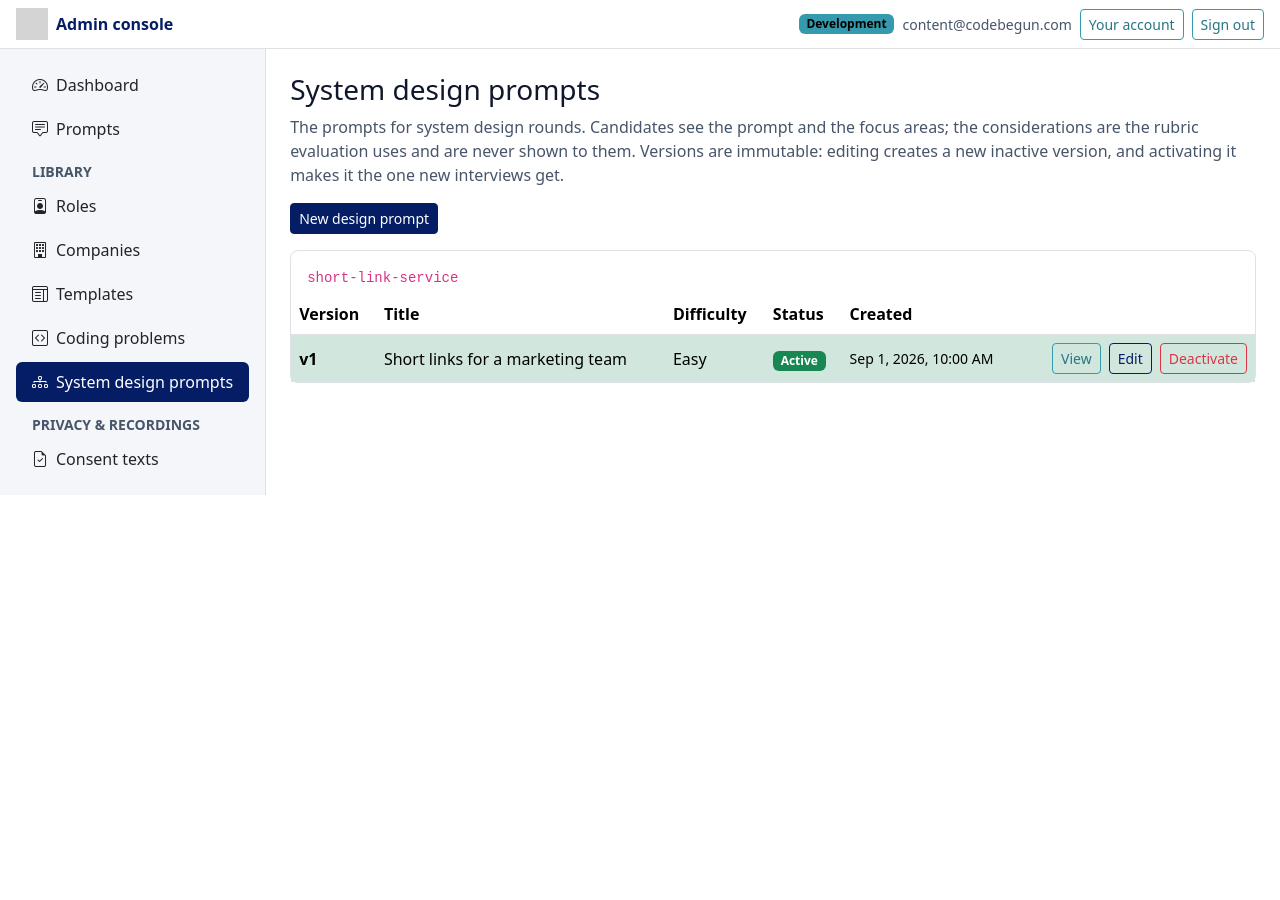
Scenario: system design prompts › lists prompts and shows the rubric as hidden from candidates
Click the button with aria-label "View short-link-service v1" at (1076, 359), box [1052,343,1101,374]
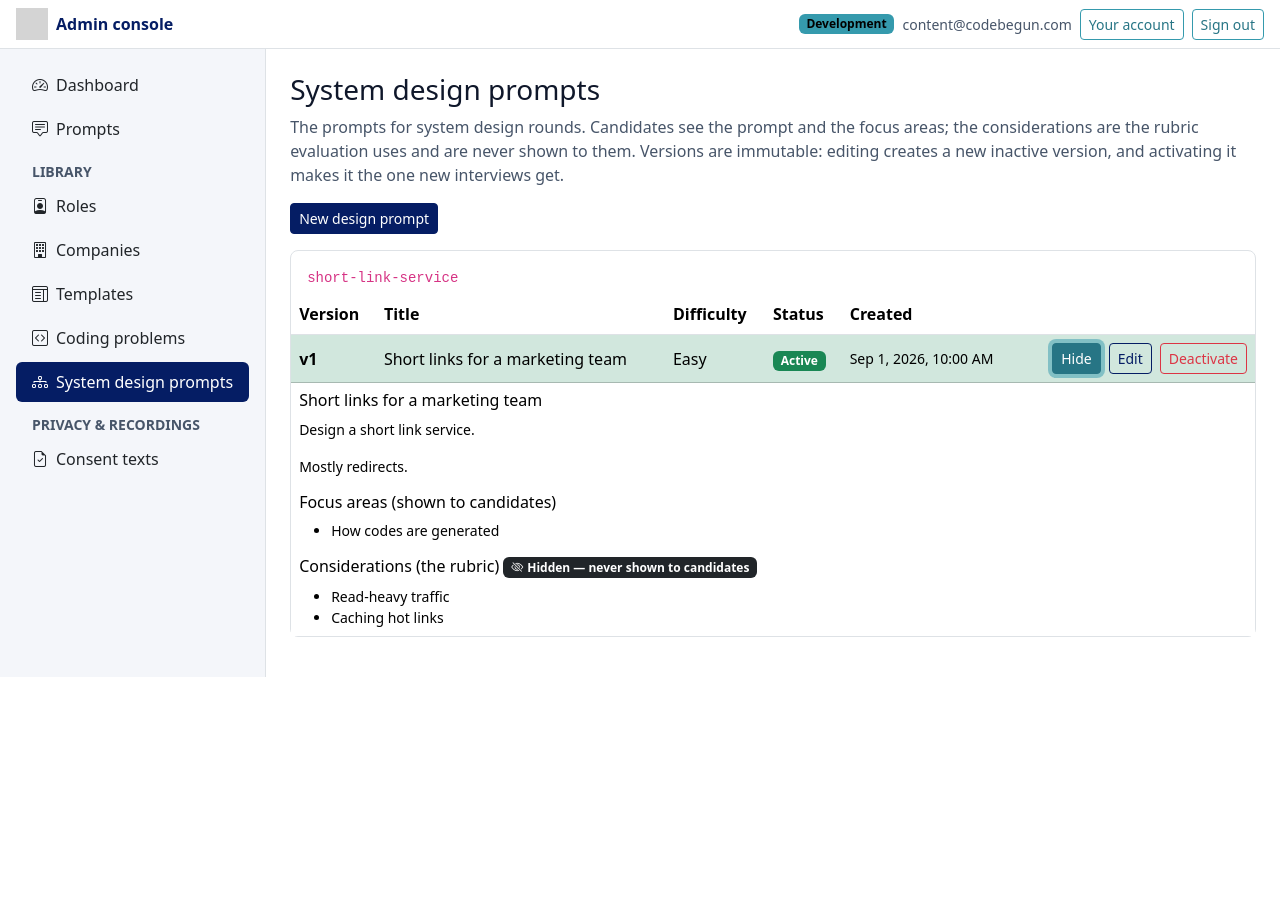
expect the list item "How codes are generated" is shown: met, box [331,521,499,540]
expect the list item "Caching hot links" is shown: met, box [331,608,444,627]
expect the text "Hidden — never shown to candidates" is shown: met, box [503,557,757,578]
